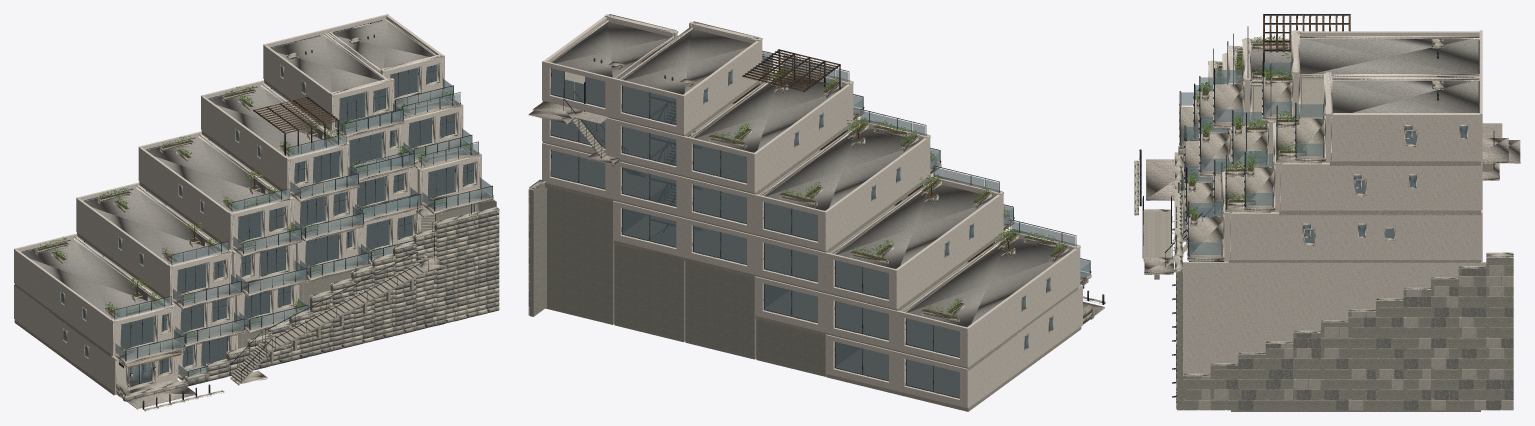
File: HIL02_lod1.glb
The picture shows the model from 3 angles, left to right: view 1: azimuth 30°, elevation 25°; view 2: azimuth 150°, elevation 25°; view 3: azimuth 270°, elevation 25°; orthographic projection. The views are drawn at different scales.
Parts seen in each view (by area): view 1: Roof_Top_Membrane__RoofGravel, Facade_Left_Exterior_Walls__Plaster, Facade_Inset_Glass__GlassTint, Facade_Raised_Plaster__Plaster, Facade_Glass_Interior_Shadow__WoodDark, Facade_Balcony_Glass__Glass, Structure_Layered_Retaining__Stone, Facade_Cantilever_Concrete__WarmConcrete, Facade_Glass_Balustrades__Glass, Structure_Layered_Retaining__StoneDark, Facade_Window_Reveals__StoneLight, Structure_Layered_Retaining__StoneLight (+29 smaller); view 2: Roof_Top_Membrane__RoofGravel, Structure_Floor_Slabs__WarmConcrete, Facade_Rear_Plaster__Plaster, Facade_Rear_Glass__GlassTint, Structure_Grade_Foundations__Stone, Facade_Left_Exterior_Walls__Plaster, Roof_Parapets__Plaster, Facade_Raised_Plaster__Plaster, Facade_Glass_Balustrades__Glass, Details_Planters__WarmConcrete, Structure_Right_Grade_Concrete__Stone, Facade_Rear_Frames__BlackMetal (+13 smaller); view 3: Facade_Outer_Side_Plaster__Plaster, Facade_East_Real_Ashlar__Stone, Facade_Upper_East_Grade_Plaster__Plaster, Roof_Top_Membrane__RoofGravel, Facade_Cantilever_Concrete__WarmConcrete, Facade_East_Real_Ashlar__StoneDark, Facade_Balcony_Glass__Glass, Facade_East_Real_Ashlar__StoneLight, Structure_Floor_Slabs__WarmConcrete, Structure_Grade_Foundations__Stone, Facade_Raised_Plaster__Plaster, Roof_Parapets__Plaster (+27 smaller).
Boxes of the visible parts, x1,y1,x2,y2 form: Roof_Top_Membrane__RoofGravel: [22, 20, 433, 318]; Facade_Left_Exterior_Walls__Plaster: [14, 45, 331, 391]; Facade_Inset_Glass__GlassTint: [121, 64, 473, 373]; Facade_Raised_Plaster__Plaster: [111, 54, 481, 394]; Facade_Glass_Interior_Shadow__WoodDark: [121, 65, 472, 372]; Facade_Balcony_Glass__Glass: [115, 79, 492, 378]; Structure_Layered_Retaining__Stone: [123, 210, 499, 401]; Facade_Cantilever_Concrete__WarmConcrete: [114, 89, 493, 380]; Facade_Glass_Balustrades__Glass: [114, 93, 478, 319]; Structure_Layered_Retaining__StoneDark: [134, 211, 499, 398]; Facade_Window_Reveals__StoneLight: [120, 64, 477, 384]; Structure_Layered_Retaining__StoneLight: [146, 215, 499, 395]; Roof_Top_Membrane__RoofGravel: [552, 21, 1070, 327]; Structure_Floor_Slabs__WarmConcrete: [542, 63, 1081, 411]; Facade_Rear_Plaster__Plaster: [542, 60, 968, 408]; Facade_Rear_Glass__GlassTint: [551, 68, 959, 398]; Structure_Grade_Foundations__Stone: [545, 185, 860, 376]; Facade_Left_Exterior_Walls__Plaster: [683, 41, 1080, 407]; Roof_Parapets__Plaster: [550, 20, 1010, 312]; Facade_Raised_Plaster__Plaster: [604, 14, 1082, 326]; Facade_Glass_Balustrades__Glass: [762, 57, 1075, 246]; Details_Planters__WarmConcrete: [708, 62, 1068, 324]; Structure_Right_Grade_Concrete__Stone: [530, 182, 546, 316]; Facade_Rear_Frames__BlackMetal: [550, 68, 959, 398]; Facade_Outer_Side_Plaster__Plaster: [1230, 113, 1480, 261]; Facade_East_Real_Ashlar__Stone: [1183, 257, 1513, 410]; Facade_Upper_East_Grade_Plaster__Plaster: [1183, 262, 1486, 373]; Roof_Top_Membrane__RoofGravel: [1216, 38, 1478, 120]; Facade_Cantilever_Concrete__WarmConcrete: [1179, 76, 1325, 261]; Facade_East_Real_Ashlar__StoneDark: [1226, 268, 1513, 410]; Facade_Balcony_Glass__Glass: [1179, 62, 1323, 261]; Facade_East_Real_Ashlar__StoneLight: [1198, 265, 1513, 410]; Structure_Floor_Slabs__WarmConcrete: [1228, 79, 1480, 262]; Structure_Grade_Foundations__Stone: [1231, 268, 1480, 411]; Facade_Raised_Plaster__Plaster: [1210, 30, 1331, 261]; Roof_Parapets__Plaster: [1216, 36, 1479, 84].
Size of the model in its own units: 36.1 by 20.04 by 23.4.
18 materials, 18 textured.
